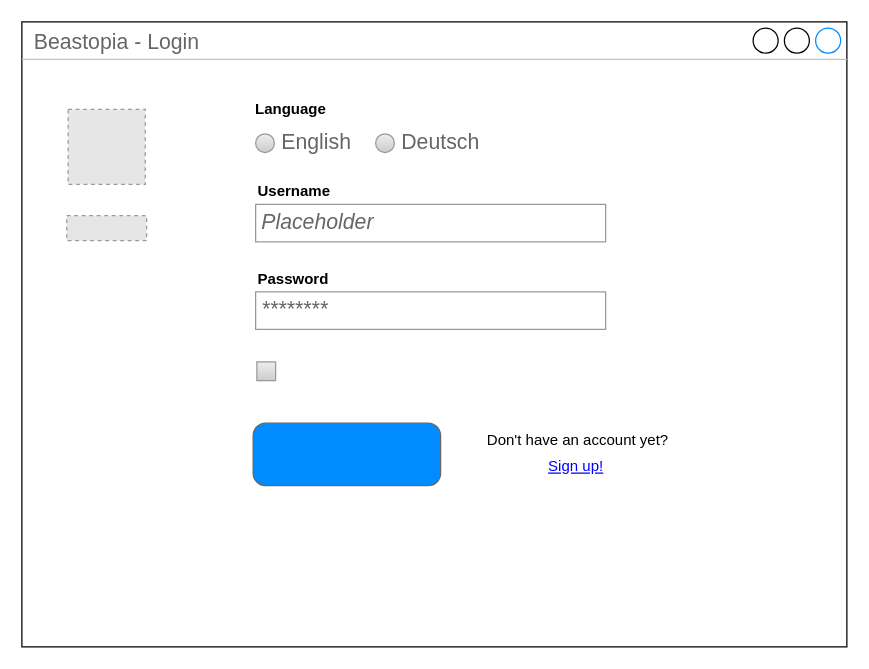
The diagram is 869 pixels wide and 669 high, and some of its shapes have lost their labels. Grey dashed boxes stand in for pictures. Each missing label, with the centre of its shape:
"Login" goes at pixel 346 454.
"Remember me" goes at pixel 266 371.
